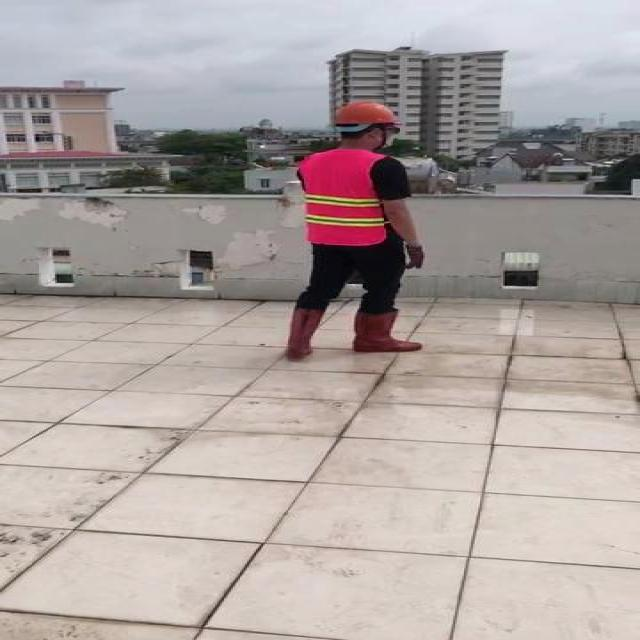boots: (348, 311, 419, 351), (285, 308, 327, 357)
hand_glove: (405, 244, 425, 268)
head_helmet: (337, 100, 404, 126)
person: (265, 99, 435, 365)
vest: (302, 151, 391, 247)
